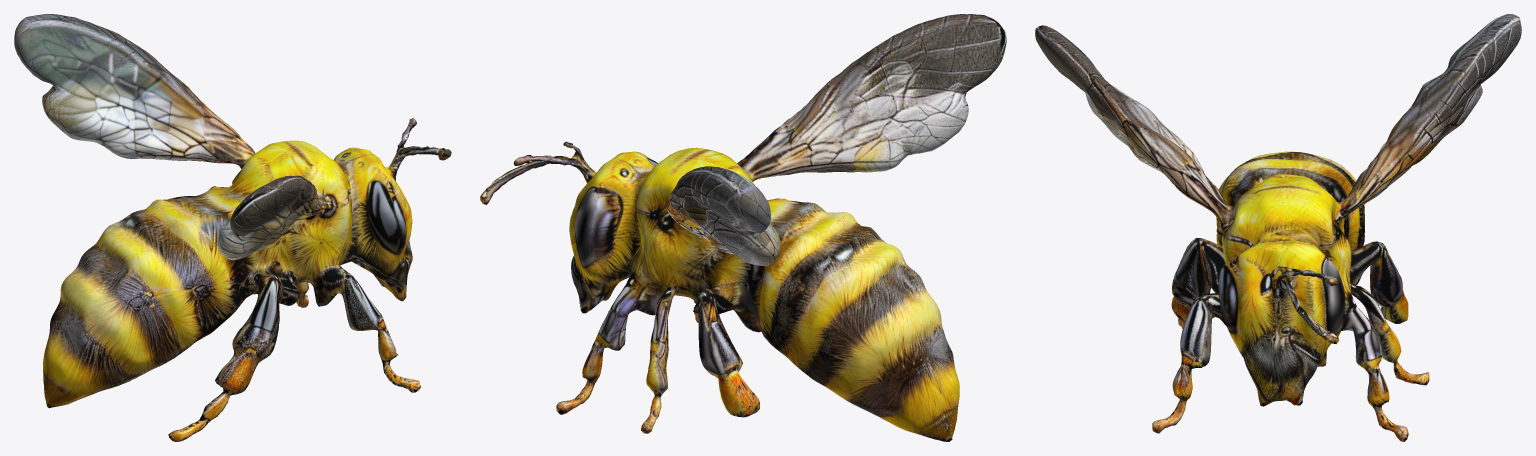
Rendered from bee.glb.
3 views of the same model, side by side, from view 1: azimuth 30°, elevation 25°; view 2: azimuth 150°, elevation 25°; view 3: azimuth 270°, elevation 25° (orthographic). The views are drawn at different scales.
Size of the model in its own units: 1.2 by 0.8421 by 1.17.
Materials: 1 (1 with a texture image).
